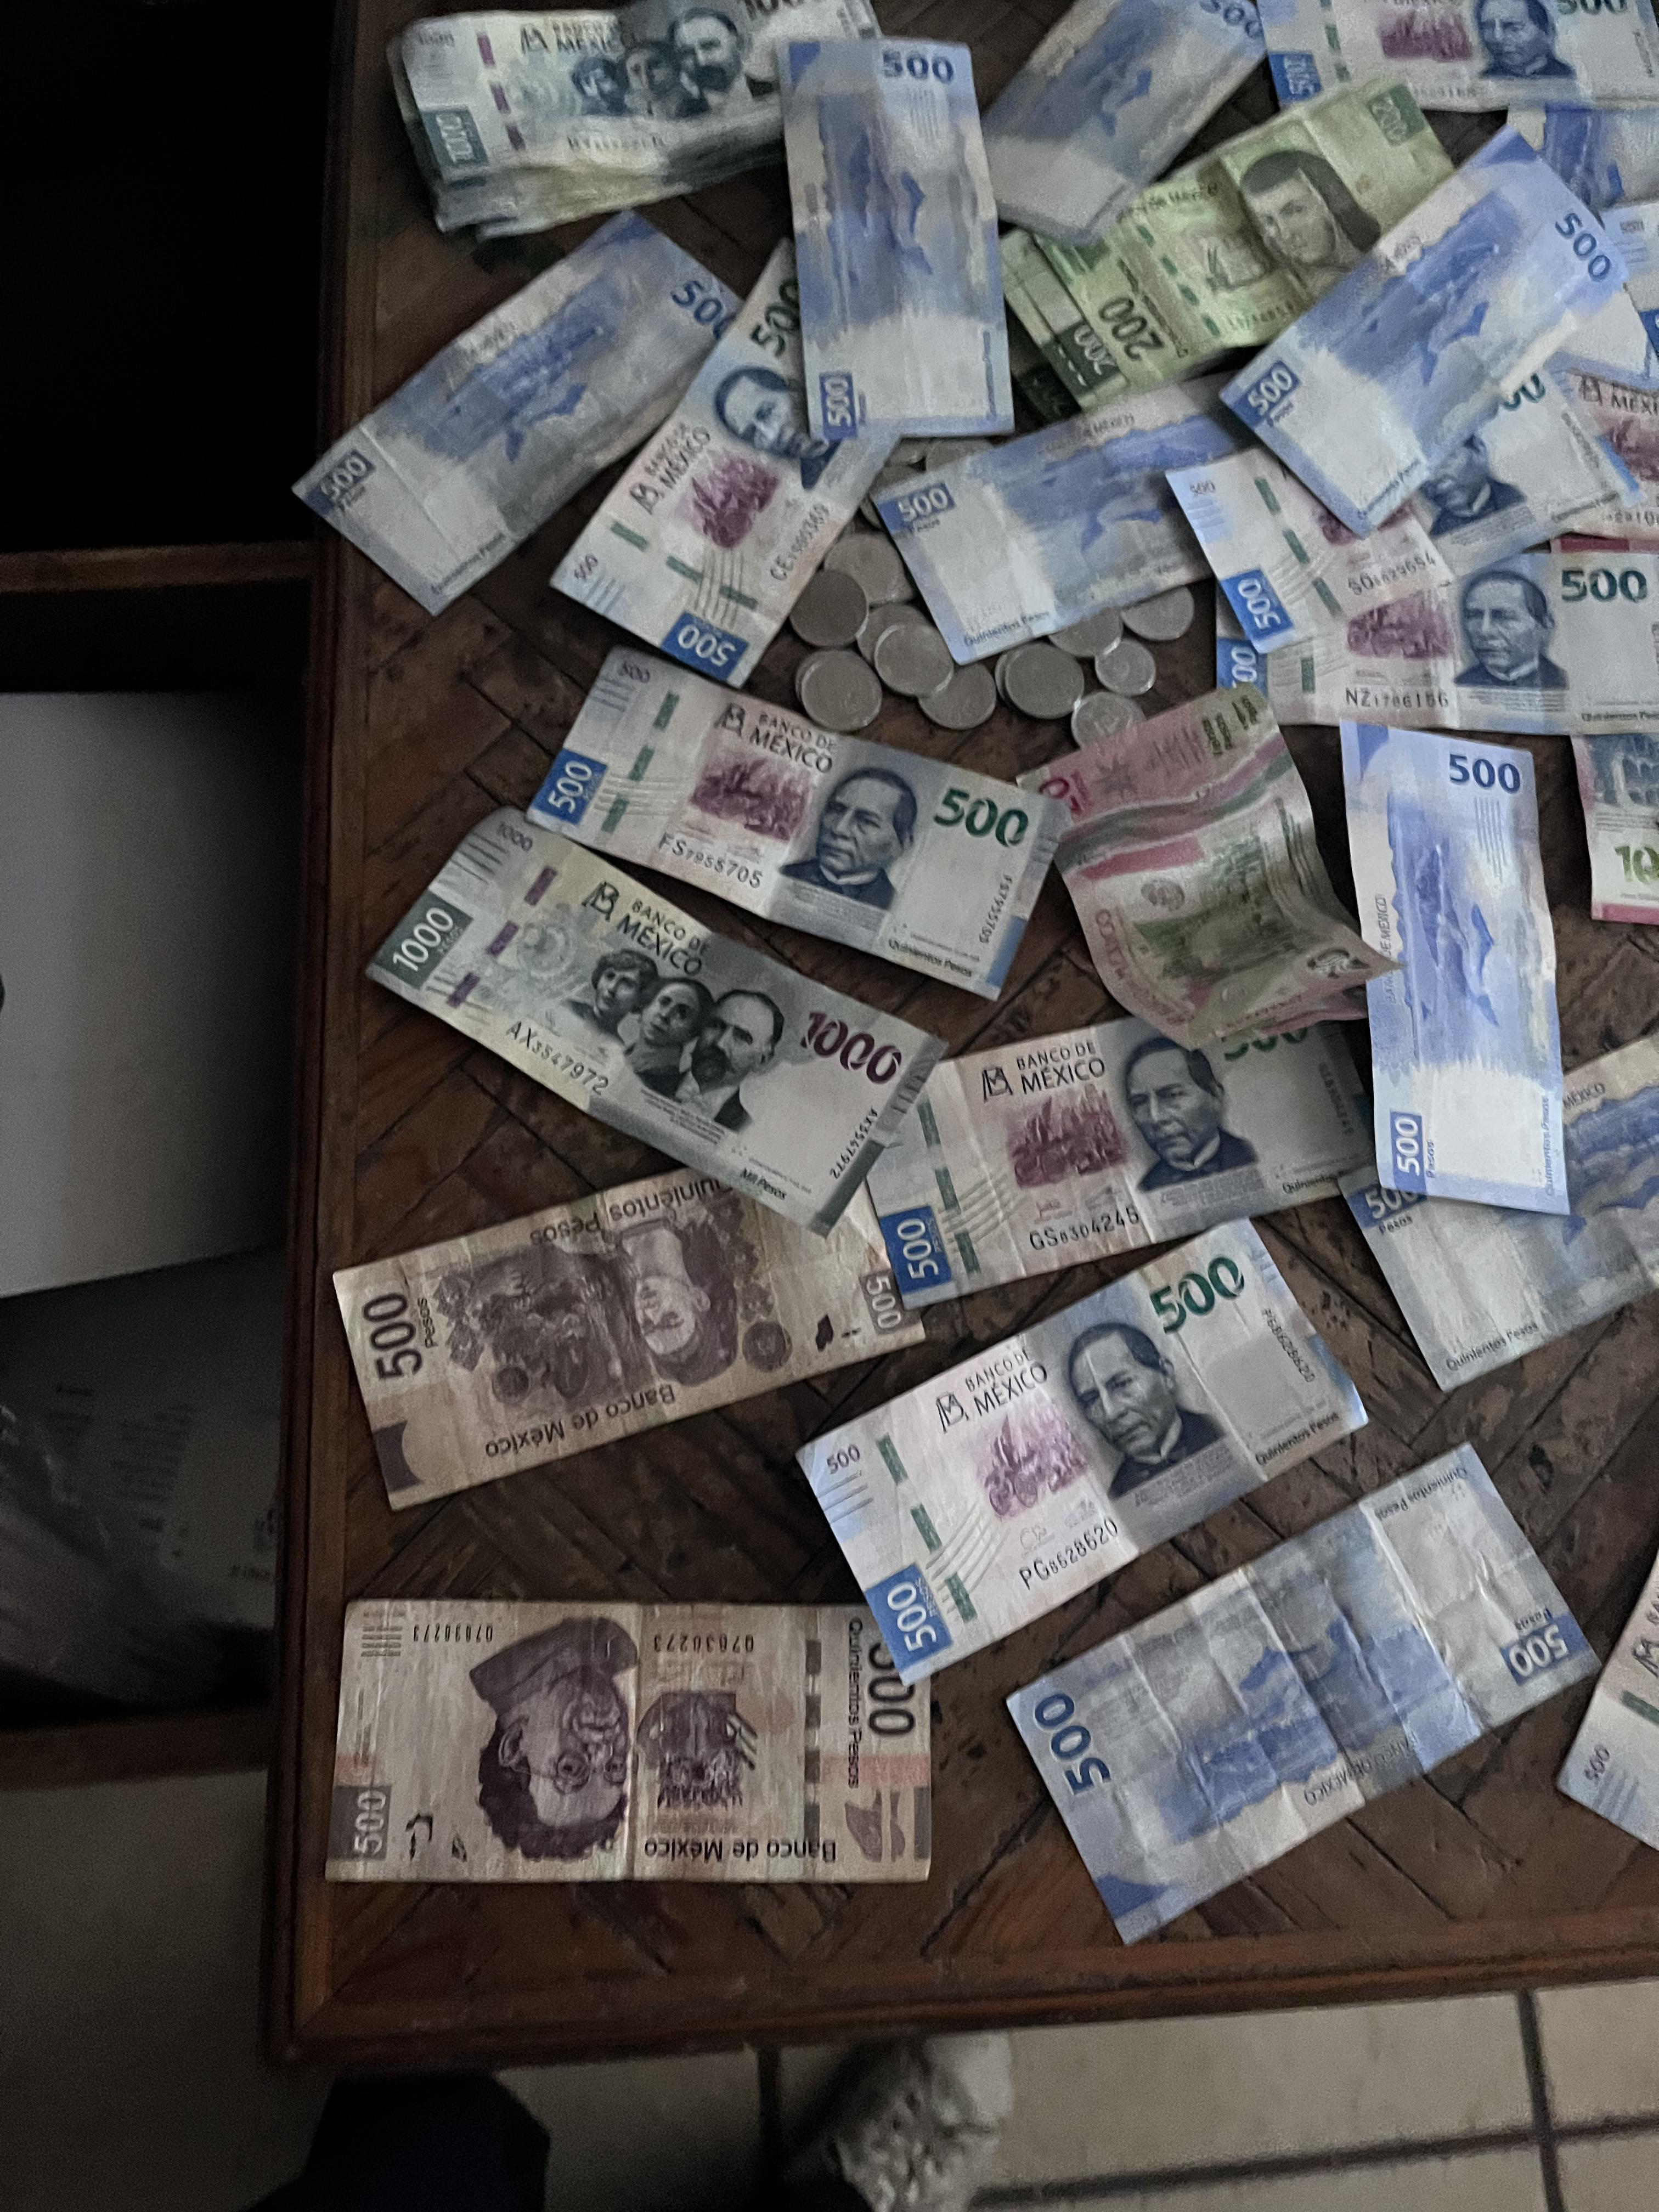1000: (307, 777, 955, 1237), (352, 0, 925, 244)
20: (1011, 678, 1382, 1040)
200: (1012, 68, 1466, 415)
500: (317, 1104, 918, 1533), (310, 1571, 945, 1926)
500 nuevo: (943, 1423, 1619, 1963), (758, 1198, 1387, 1691), (228, 200, 765, 613), (518, 200, 948, 686), (535, 627, 1063, 991), (1204, 117, 1642, 535), (892, 988, 1394, 1322), (1326, 704, 1600, 1230), (852, 381, 1330, 681), (1108, 354, 1642, 618), (1314, 1001, 1659, 1409), (763, 23, 1063, 451), (1185, 503, 1659, 738), (969, 0, 1279, 256), (1239, 0, 1659, 113)
